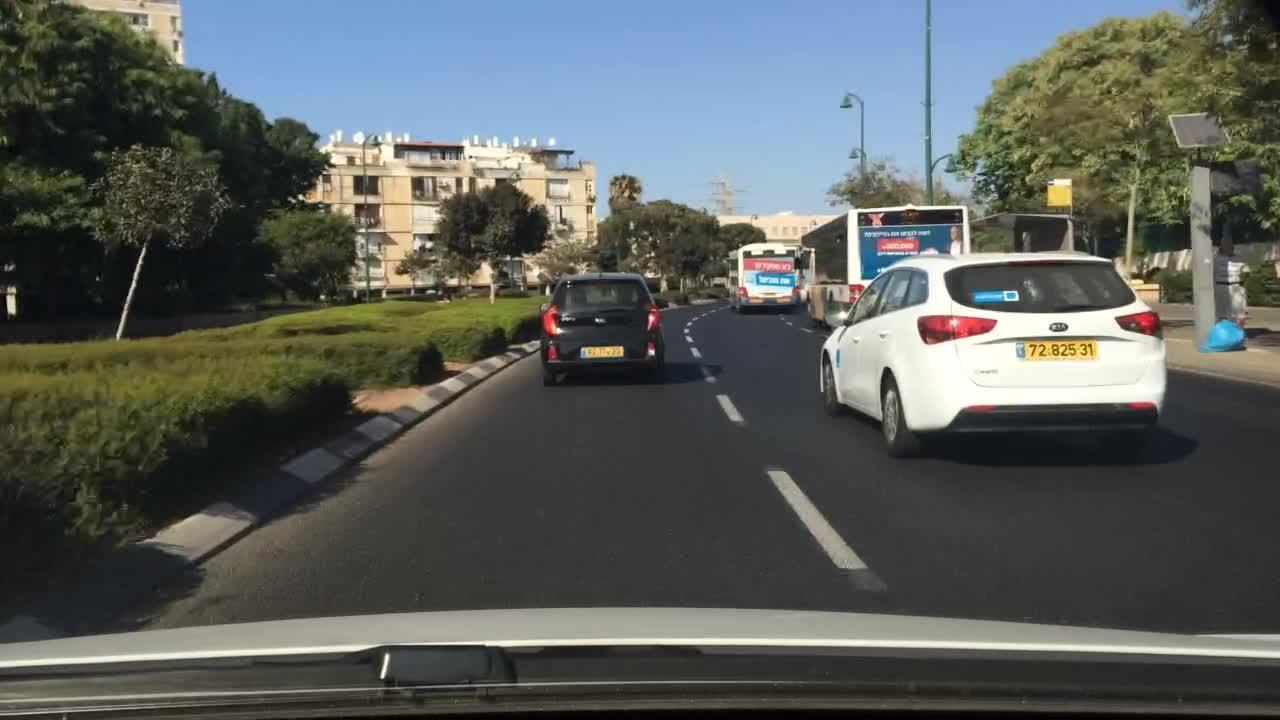kia: (1045, 320, 1071, 333)
